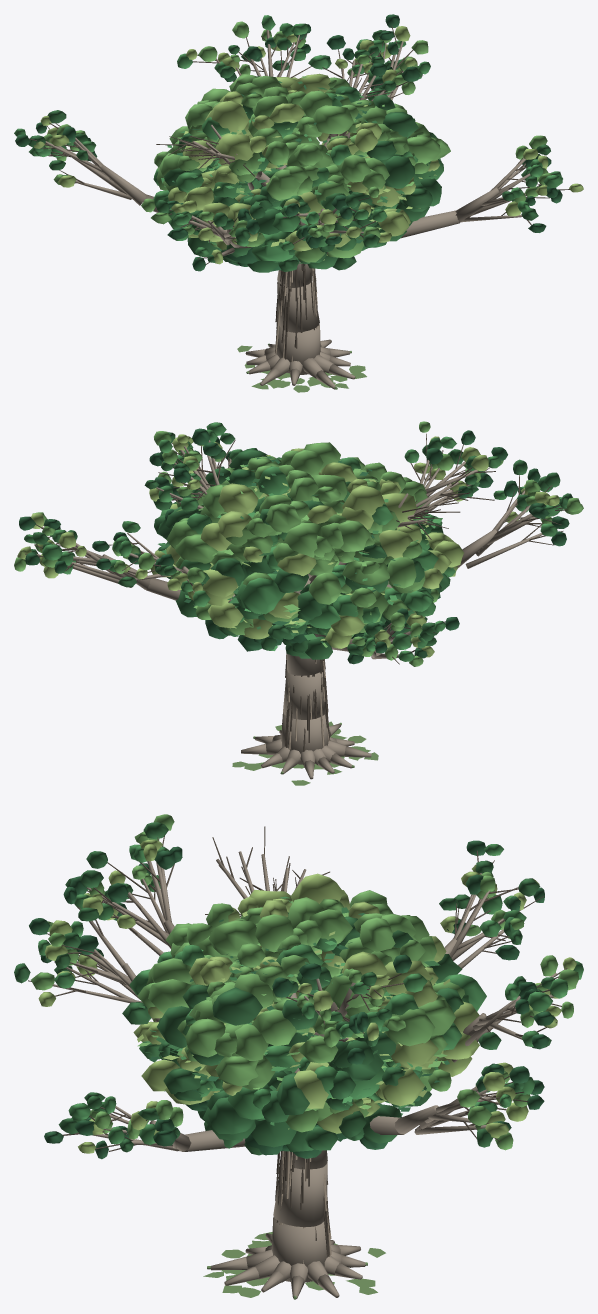
File: tree_mature_oak.glb
3 renders of one model, top to bottom at view 1: azimuth 30°, elevation 25°; view 2: azimuth 150°, elevation 25°; view 3: azimuth 270°, elevation 25°, orthographic. The views are drawn at different scales.
Parts seen in each view (by area): view 1: oak_leaf_batch_fresh_green, oak_leaf_batch_sunlit_green, oak_leaf_batch_deep_green, oak_bark_trunk_branch_batch, oak_leaf_batch_mid_green, oak_leaf_batch_shadow_green, oak_dark_bark_crack_batch, oak_moss_and_leaf_litter_batch; view 2: oak_leaf_batch_fresh_green, oak_leaf_batch_sunlit_green, oak_leaf_batch_mid_green, oak_bark_trunk_branch_batch, oak_leaf_batch_deep_green, oak_leaf_batch_shadow_green, oak_dark_bark_crack_batch, oak_moss_and_leaf_litter_batch, oak_cut_bark_highlight_batch; view 3: oak_leaf_batch_fresh_green, oak_leaf_batch_deep_green, oak_leaf_batch_sunlit_green, oak_bark_trunk_branch_batch, oak_leaf_batch_mid_green, oak_leaf_batch_shadow_green, oak_dark_bark_crack_batch, oak_moss_and_leaf_litter_batch.
Boxes of the visible parts, x1,y1,x2,y2 form: oak_leaf_batch_fresh_green: [44, 21, 553, 262]; oak_leaf_batch_sunlit_green: [34, 26, 583, 264]; oak_leaf_batch_deep_green: [28, 30, 550, 272]; oak_bark_trunk_branch_batch: [45, 29, 530, 389]; oak_leaf_batch_mid_green: [14, 15, 562, 261]; oak_leaf_batch_shadow_green: [15, 14, 562, 271]; oak_dark_bark_crack_batch: [28, 25, 569, 359]; oak_moss_and_leaf_litter_batch: [237, 343, 366, 392]; oak_leaf_batch_fresh_green: [14, 421, 583, 666]; oak_leaf_batch_sunlit_green: [17, 434, 559, 657]; oak_leaf_batch_mid_green: [24, 422, 563, 661]; oak_bark_trunk_branch_batch: [36, 440, 542, 779]; oak_leaf_batch_deep_green: [31, 432, 572, 659]; oak_leaf_batch_shadow_green: [19, 428, 569, 664]; oak_dark_bark_crack_batch: [25, 433, 567, 751]; oak_moss_and_leaf_litter_batch: [232, 721, 378, 785]; oak_cut_bark_highlight_batch: [286, 653, 329, 749]; oak_leaf_batch_fresh_green: [31, 814, 579, 1150]; oak_leaf_batch_deep_green: [14, 822, 554, 1155]; oak_leaf_batch_sunlit_green: [38, 839, 576, 1153]; oak_bark_trunk_branch_batch: [52, 851, 556, 1298]; oak_leaf_batch_mid_green: [38, 844, 583, 1144]; oak_leaf_batch_shadow_green: [29, 840, 554, 1159]; oak_dark_bark_crack_batch: [28, 826, 576, 1257]; oak_moss_and_leaf_litter_batch: [203, 1232, 385, 1299].
Size of the model in its own units: 4.82 by 3.13 by 4.44.
